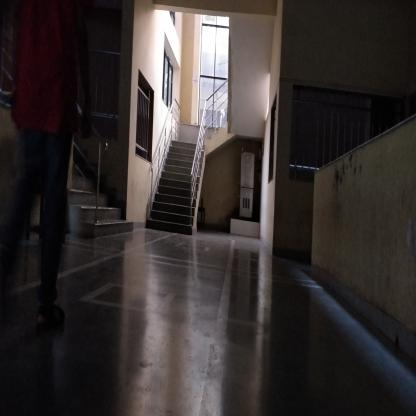stairs: (161, 181, 191, 245)
